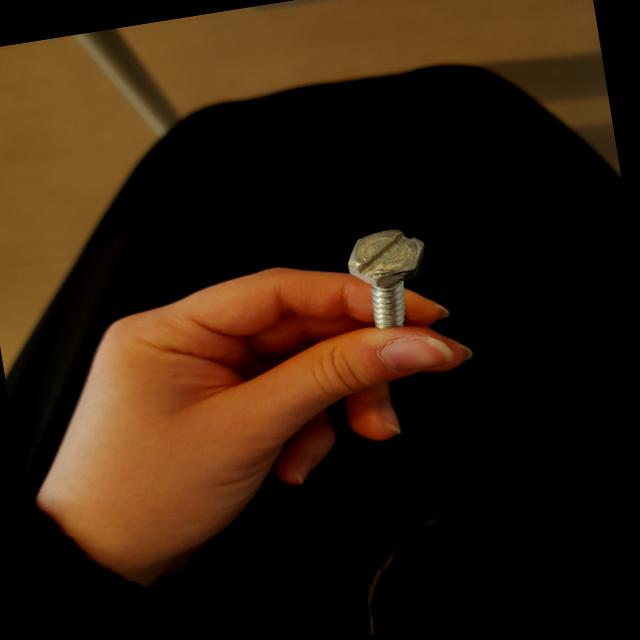Slotted: (344, 222, 432, 288)
